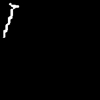half_double_crochet: (4, 3, 18, 36)
